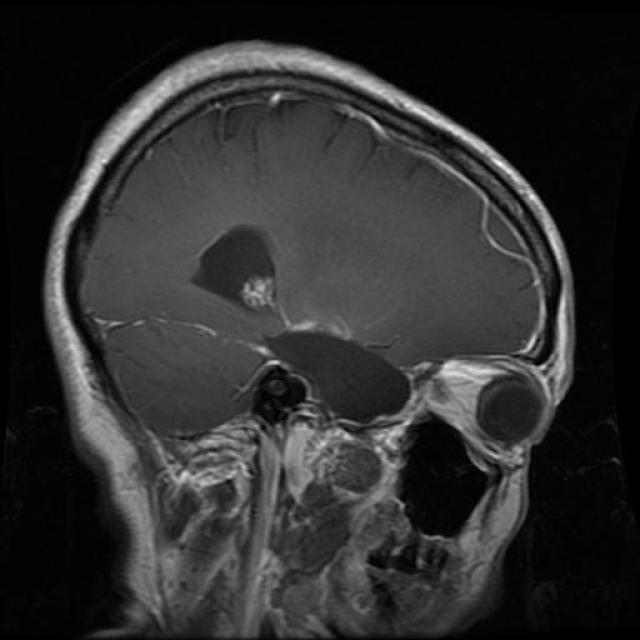glioma: (195, 212, 321, 332)
